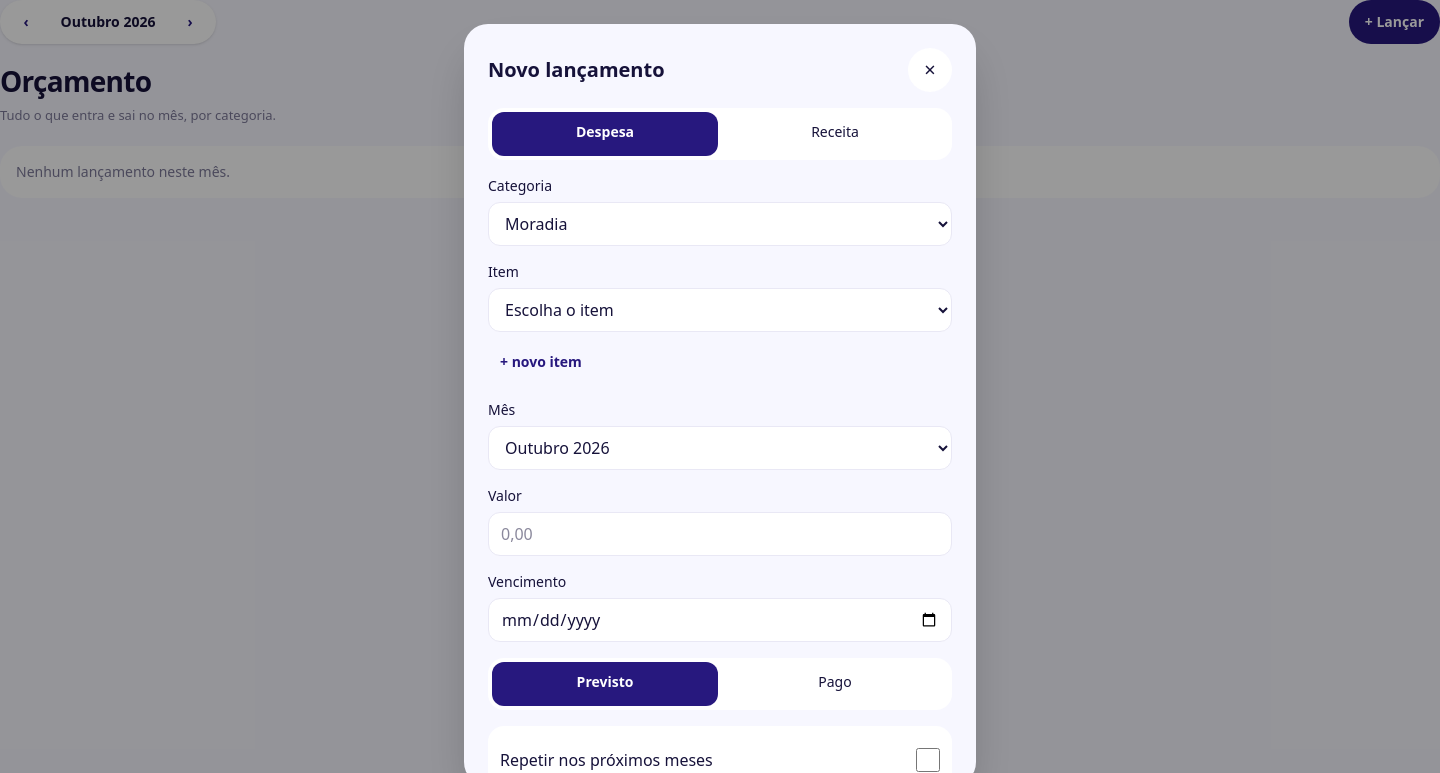
Scenario: LancamentoForm (novo) › exige_escolher_o_item_antes_de_enviar
Step 1. Type "10" into the field labelled "Valor" → (720, 534), box [488,512,952,556]
(page scrolled)
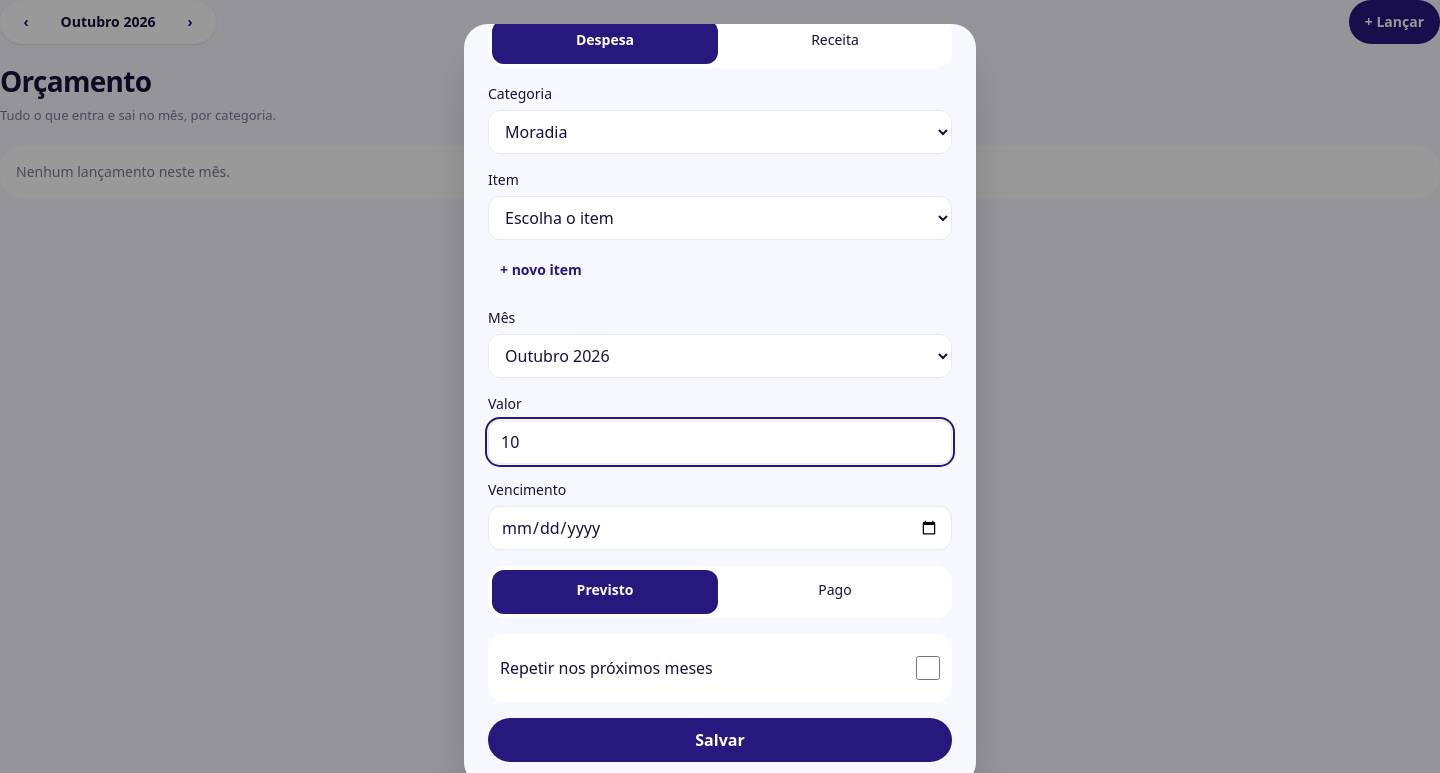
Step 2. Click the button "Salvar" → (720, 740), box [488,718,952,762]
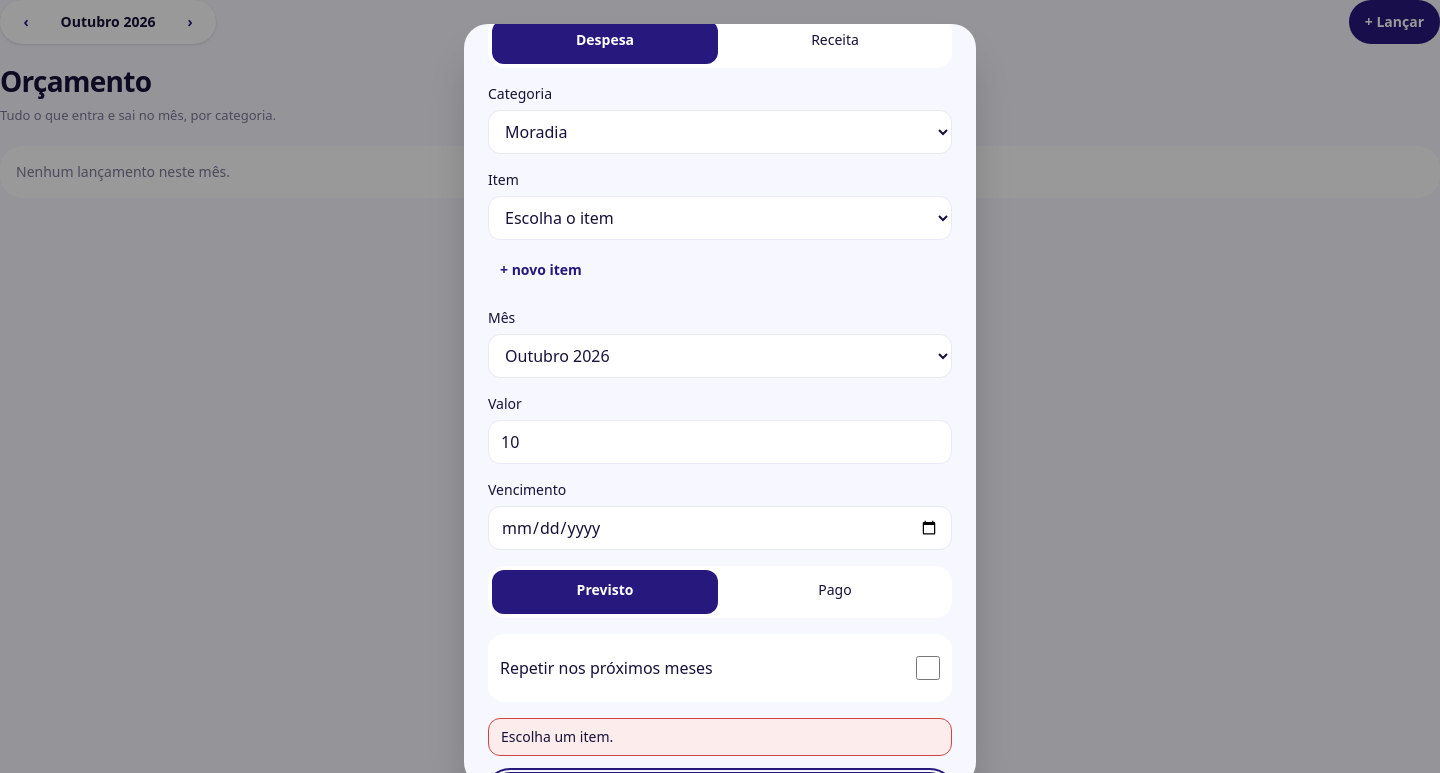
Now the text "Escolha um item." is shown, box [488,718,952,756]
